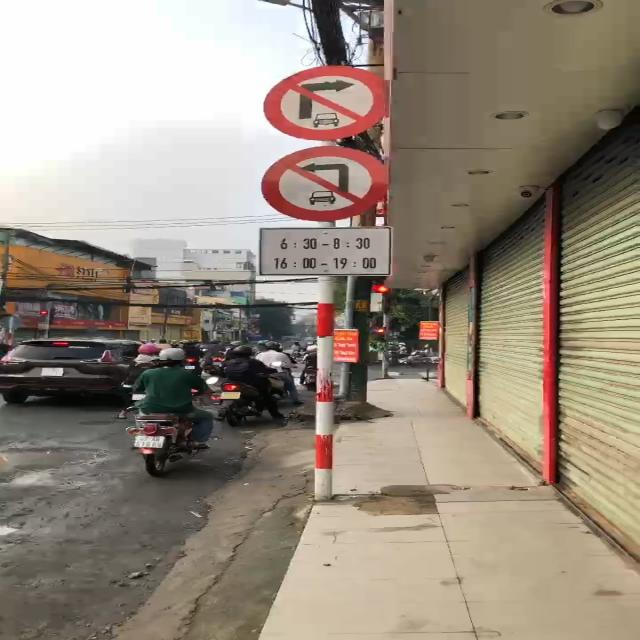Bien bao cam xe o to re phai: (259, 61, 406, 141)
Bien bao cam xe o to re trai: (254, 144, 397, 220)
